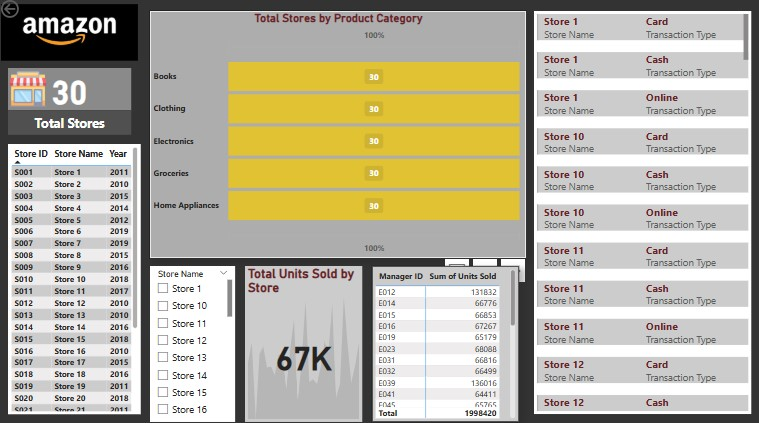

This screenshot's page, from the dashboard's own definition file:
{"tool":"powerbi","page":{"name":"Stores","canvas":[1280,720],"ordinal":4},"visuals":[{"type":"image","box":[0,0,240.2,119.3],"z":0},{"type":"card","fields":{"Values":["CountNonNull(store_information_data.Store ID)"]},"box":[16.8,119.3,206.6,70.6],"z":1000},{"type":"textbox","box":[16.8,191.5,206.6,40.3],"z":2000},{"type":"actionButton","box":[0,0,100,40],"z":3000},{"type":"image","box":[0,119.3,100.8,70.6],"z":4000},{"type":"tableEx","fields":{"Values":["store_information_data.Store ID","store_information_data.Store Name","store_information_data.Opening Date.Variation.Date Hierarchy.Year"]},"box":[16.8,246.9,223.4,453.5],"z":5000},{"type":"funnel","title":"Total Stores by Product Category","fields":{"Category":["retail_sales_transactions_data.Product Category"],"Y":["CountNonNull(store_information_data.Store ID)"]},"box":[255.3,20.2,631.6,414.9],"z":6000},{"type":"slicer","fields":{"Values":["store_information_data.Store Name"]},"box":[255.1,457.8,354.3,242.4],"z":8000},{"type":"pivotTable","fields":{"Rows":["store_information_data.Manager ID"],"Values":["Sum(retail_sales_transactions_data.Units Sold)"]},"box":[962.4,19.8,255.1,542.8],"z":9000},{"type":"kpi","title":"Total Units Sold by Store","fields":{"Indicator":["Sum(retail_sales_transactions_data.Units Sold)"],"TrendLine":["store_information_data.Store ID"]},"box":[640.6,457.8,267.9,231],"z":10000}]}

Visuals, with their boxes in screenshot pixels (x1, y1, x2, y2), scaled from the page's 1280x720 canvas onto the 759x423 screenshot:
image: bbox(0, 0, 142, 70)
card - CountNonNull(store_information_data.Store ID): bbox(10, 70, 132, 112)
textbox: bbox(10, 113, 132, 136)
actionButton: bbox(0, 0, 59, 24)
image: bbox(0, 70, 60, 112)
tableEx - store_information_data.Store ID x store_information_data.Store Name: bbox(10, 145, 142, 411)
"Total Stores by Product Category" funnel: bbox(151, 12, 526, 256)
slicer - store_information_data.Store Name: bbox(151, 269, 361, 411)
pivotTable - store_information_data.Manager ID x Sum(retail_sales_transactions_data.Units Sold): bbox(571, 12, 722, 331)
"Total Units Sold by Store" kpi: bbox(380, 269, 539, 405)
